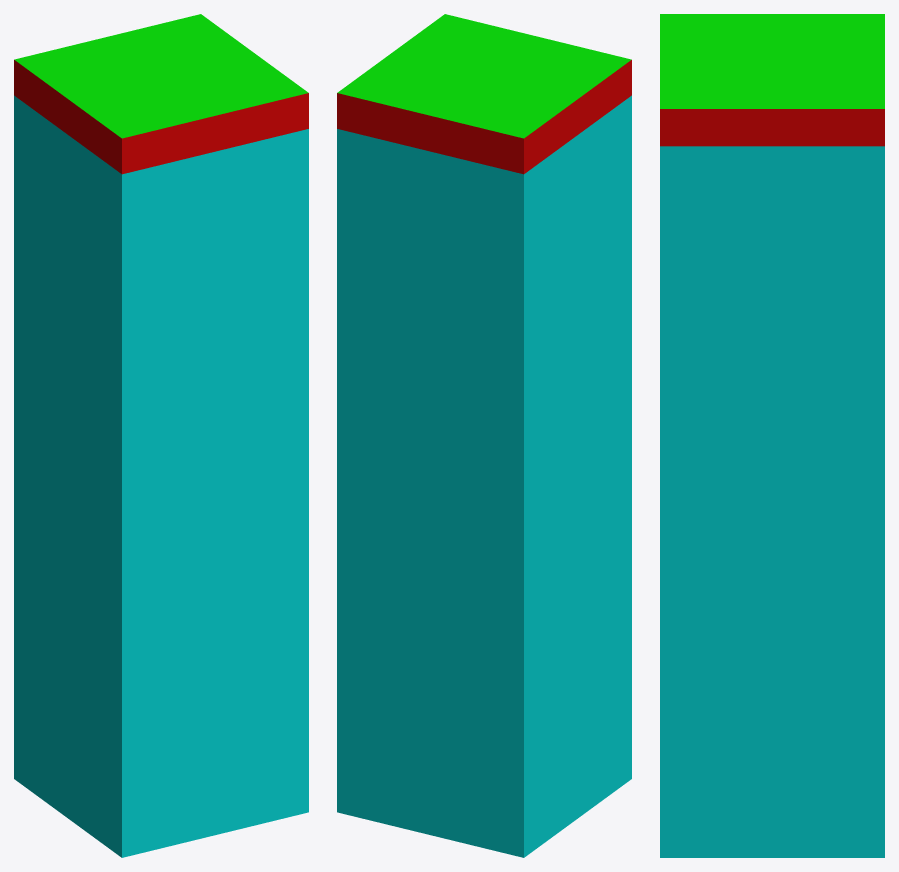
The model's file is Building_Square_Basic.fbx.
3 views of the same model, side by side, from view 1: azimuth 30°, elevation 25°; view 2: azimuth 150°, elevation 25°; view 3: azimuth 270°, elevation 25° (orthographic). The views are drawn at different scales.
Parts seen in each view (by area): view 1: pCube8; view 2: pCube8; view 3: pCube8.
Boxes of the visible parts, left/top/right/bottom form: pCube8: left=14, top=14, right=308, bottom=857; pCube8: left=337, top=14, right=631, bottom=857; pCube8: left=660, top=14, right=884, bottom=857.
Bounding box in the file's own units: 1000 × 3678 × 1000.
